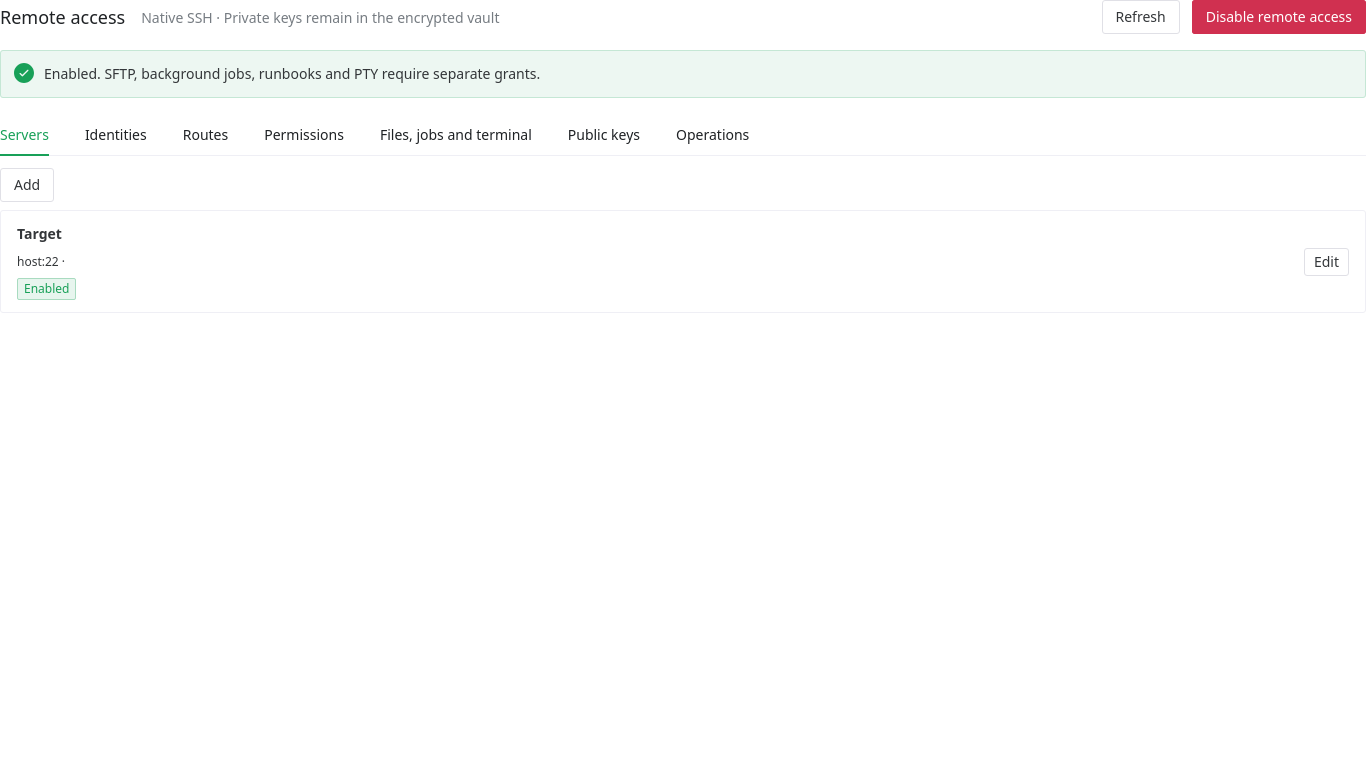
Test: Remote SSH dashboard › renders imported secrets as masked write-only fields and clears them on close
Click the element with class "n-tabs-tab" showing "Identities": (116, 135) top-left (85, 125), bottom-right (147, 144)
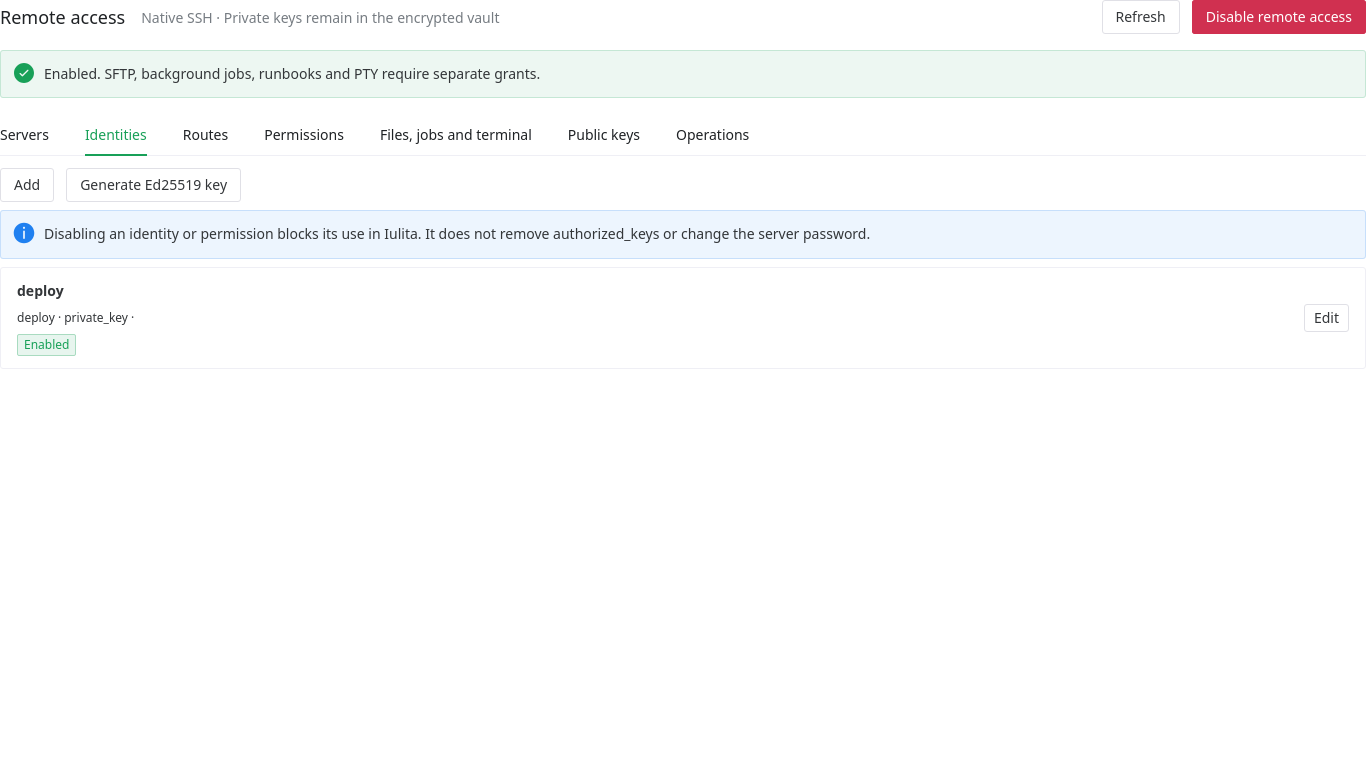
Click the button "Edit": (1326, 318) top-left (1304, 304), bottom-right (1349, 332)
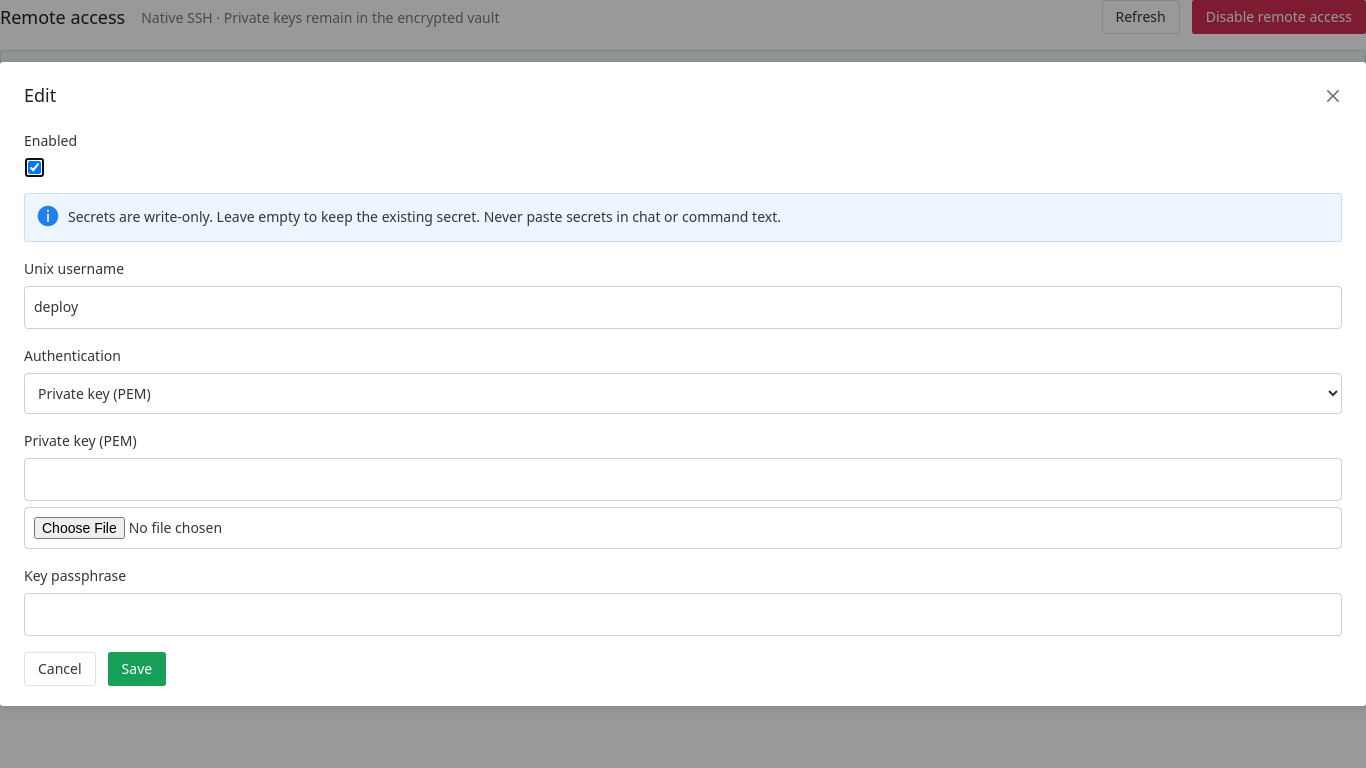
expect the password field labelled "Private key (PEM)" is empty: met, box top-left (24, 458), bottom-right (1342, 501)
expect the number of password fields is 2: met, box top-left (24, 458), bottom-right (1342, 501); top-left (24, 594), bottom-right (1342, 636)
